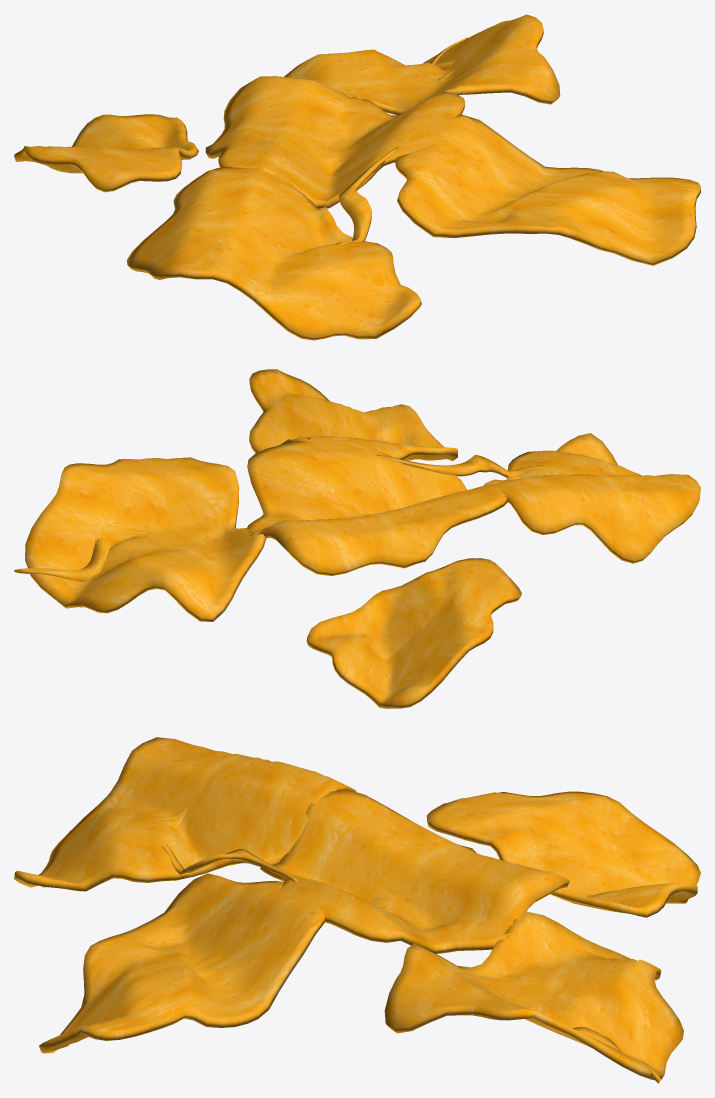
Rendered from sides-cheese-chili.glb.
The picture shows the model from 3 angles, top to bottom: view 1: azimuth 30°, elevation 25°; view 2: azimuth 150°, elevation 25°; view 3: azimuth 270°, elevation 25°; orthographic projection. The views are drawn at different scales.
Visible parts, largest first — view 1: Irregular melted cheddar pool 0; view 2: Irregular melted cheddar pool 0; view 3: Irregular melted cheddar pool 0.
Boxes of the visible parts, x1,y1,x2,y2 form: Irregular melted cheddar pool 0: [14, 14, 700, 340]; Irregular melted cheddar pool 0: [14, 369, 700, 708]; Irregular melted cheddar pool 0: [14, 737, 700, 1083].
Bounding box in the file's own units: 1.57 × 0.3144 × 1.55.
1 material, 1 textured.
